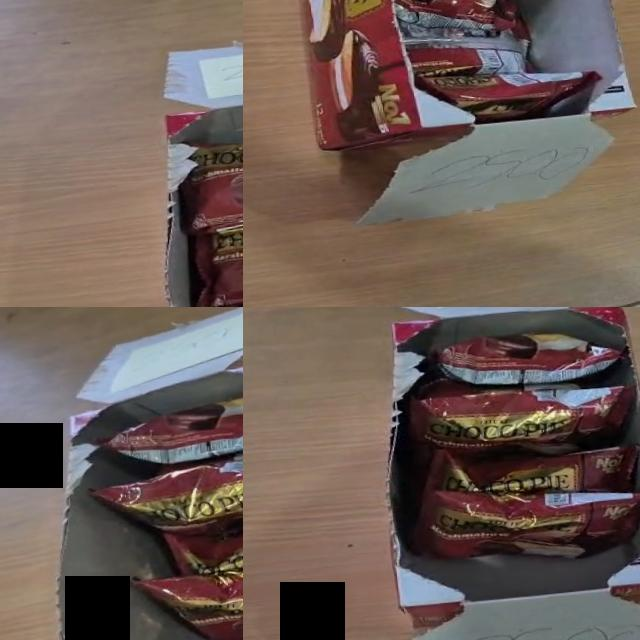Chocopie: (403, 361, 640, 468), (401, 471, 640, 574), (422, 430, 640, 510), (91, 450, 243, 544), (427, 322, 628, 392), (414, 59, 603, 128), (103, 392, 243, 467), (129, 562, 243, 640), (174, 111, 243, 237), (403, 23, 531, 84), (386, 0, 525, 45), (186, 201, 243, 307), (162, 517, 243, 577)
